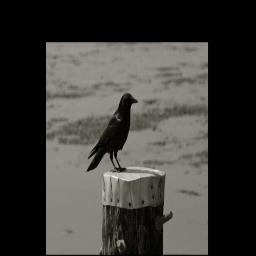Crow: (85, 90, 139, 176)
